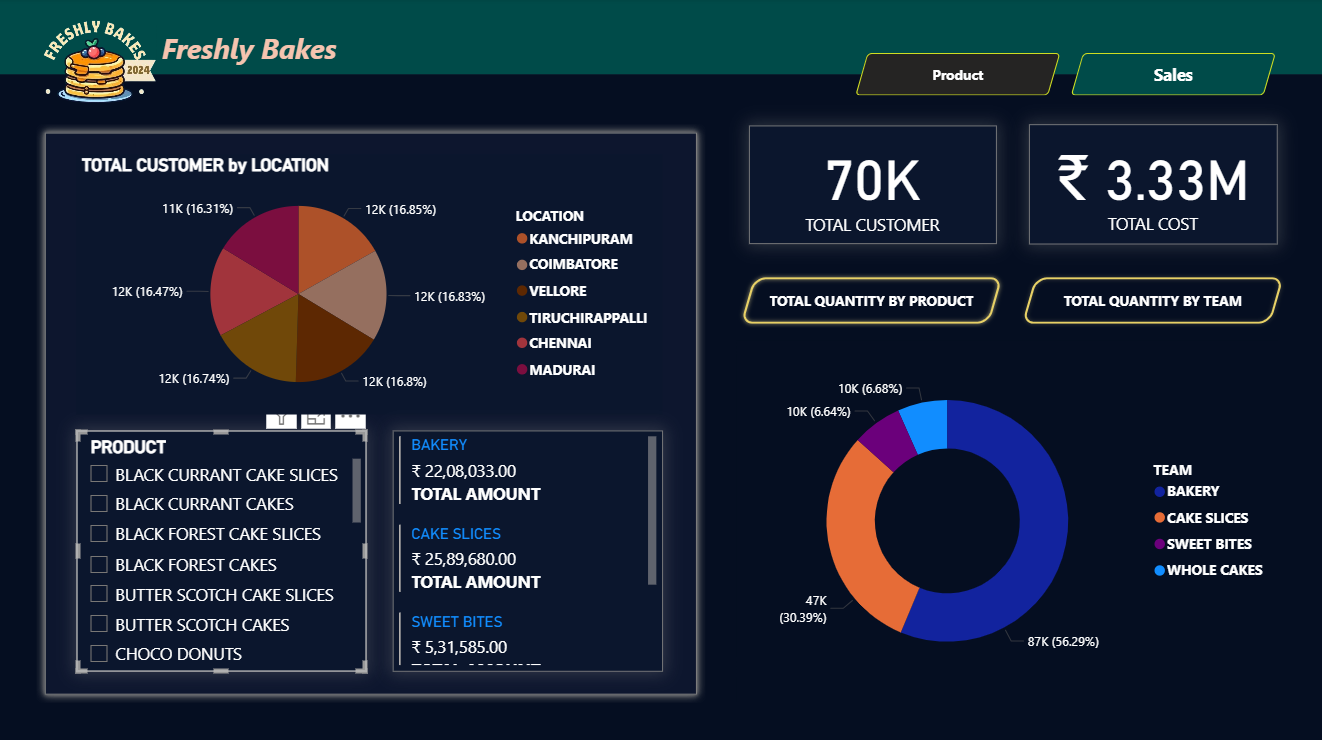

What the dashboard file says about the page in this screenshot:
{"tool":"powerbi","page":{"name":"Product","canvas":[1280,720],"ordinal":0},"visuals":[{"type":"shape","box":[36.2,121.9,645.4,558.6],"z":0},{"type":"shape","box":[0,0,1280,73.6],"z":1000},{"type":"pageNavigator","box":[826.4,53.1,407.8,41],"z":2000},{"type":"card","fields":{"Values":["Sales.TOTAL CUSTOMER"]},"box":[723.9,123.1,238.9,114.6],"z":3000},{"type":"slicer","fields":{"Values":["Sales.PRODUCT"]},"box":[74.8,417.4,279.9,232.8],"z":4000},{"type":"pieChart","fields":{"Y":["Sales.TOTAL CUSTOMER"],"Category":["Sales.LOCATION"]},"box":[74.8,150.8,565.8,250.9],"z":5000},{"type":"donutChart","fields":{"Y":["Sales.TOTAL QUANTITY"],"Category":["Sales_person.TEAM"]},"box":[711.8,330.6,522.4,348.7],"z":7000},{"type":"multiRowCard","fields":{"Values":["Sales_person.TEAM","Sales.TOTAL AMOUNT"]},"box":[380,417.4,260.6,232.8],"z":8000},{"type":"card","fields":{"Values":["Sales.TOTAL COST"]},"box":[994.2,121.3,239.8,115.7],"z":9000},{"type":"actionButton","box":[711.5,265.9,260.7,53],"z":10000},{"type":"actionButton","box":[983.4,265.9,260.7,53],"z":11000},{"type":"image","box":[0,0,185,140],"z":12000},{"type":"textbox","box":[152,25.3,202.7,48.3],"z":13000}]}

Visuals, with their boxes in screenshot pixels (x1, y1, x2, y2), scaled from the page's 1280x720 canvas onto the 1322x740 screenshot:
shape: region(37, 125, 704, 699)
shape: region(0, 0, 1321, 76)
pageNavigator: region(854, 55, 1275, 97)
card - Sales.TOTAL CUSTOMER: region(748, 127, 994, 244)
slicer - Sales.PRODUCT: region(77, 429, 366, 668)
pieChart - Sales.TOTAL CUSTOMER x Sales.LOCATION: region(77, 155, 662, 413)
donutChart - Sales.TOTAL QUANTITY x Sales_person.TEAM: region(735, 340, 1275, 698)
multiRowCard - Sales_person.TEAM x Sales.TOTAL AMOUNT: region(392, 429, 662, 668)
card - Sales.TOTAL COST: region(1027, 125, 1274, 244)
actionButton: region(735, 273, 1004, 328)
actionButton: region(1016, 273, 1285, 328)
image: region(0, 0, 191, 144)
textbox: region(157, 26, 366, 76)
